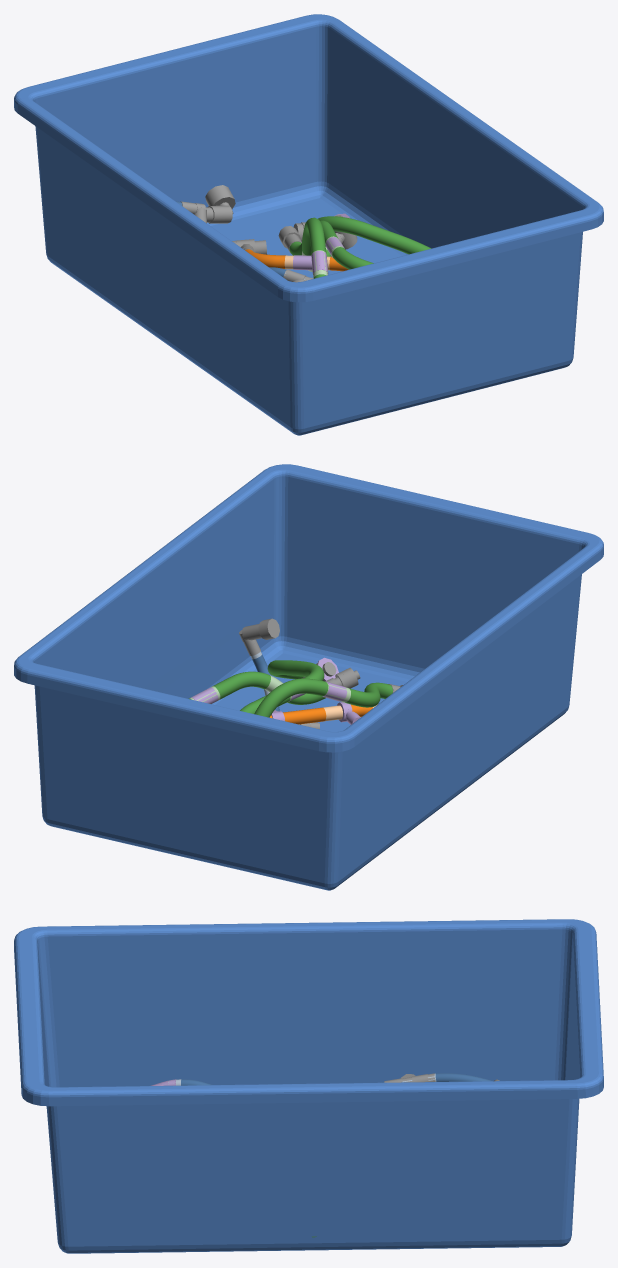
3 renders of one model, top to bottom at view 1: azimuth 30°, elevation 25°; view 2: azimuth 150°, elevation 25°; view 3: azimuth 270°, elevation 25°, orthographic. The views are drawn at different scales.
Visible parts, largest first — view 1: bin, tube_4_Y, tube_5_Y, tube_3_Y, tube_2_X, tube_6_X; view 2: bin, tube_5_Y, tube_4_Y, tube_3_Y, tube_2_X, tube_0_AB; view 3: bin, tube_1_AB.
Part boxes in pixels (bbox=[...]): bin: bbox=[14, 14, 603, 435]; tube_4_Y: bbox=[293, 216, 431, 254]; tube_5_Y: bbox=[302, 213, 357, 278]; tube_3_Y: bbox=[278, 220, 373, 269]; tube_2_X: bbox=[232, 239, 348, 271]; tube_6_X: bbox=[205, 185, 235, 223]; bin: bbox=[14, 464, 603, 890]; tube_5_Y: bbox=[254, 678, 402, 717]; tube_4_Y: bbox=[189, 667, 360, 704]; tube_3_Y: bbox=[240, 657, 338, 713]; tube_2_X: bbox=[269, 702, 377, 724]; tube_0_AB: bbox=[239, 618, 319, 729]; bin: bbox=[14, 919, 603, 1253]; tube_1_AB: bbox=[151, 1073, 492, 1085].
Bounding box in the file's own units: 0.4119 × 0.1995 × 0.5945.
